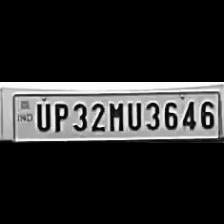2: (88, 99, 106, 131)
3: (70, 99, 88, 131), (144, 98, 160, 130)
4: (180, 97, 196, 128)
6: (160, 97, 178, 129), (197, 97, 215, 128)
M: (105, 99, 124, 131)
P: (51, 100, 69, 132)
U: (32, 99, 50, 131), (124, 98, 142, 130)
